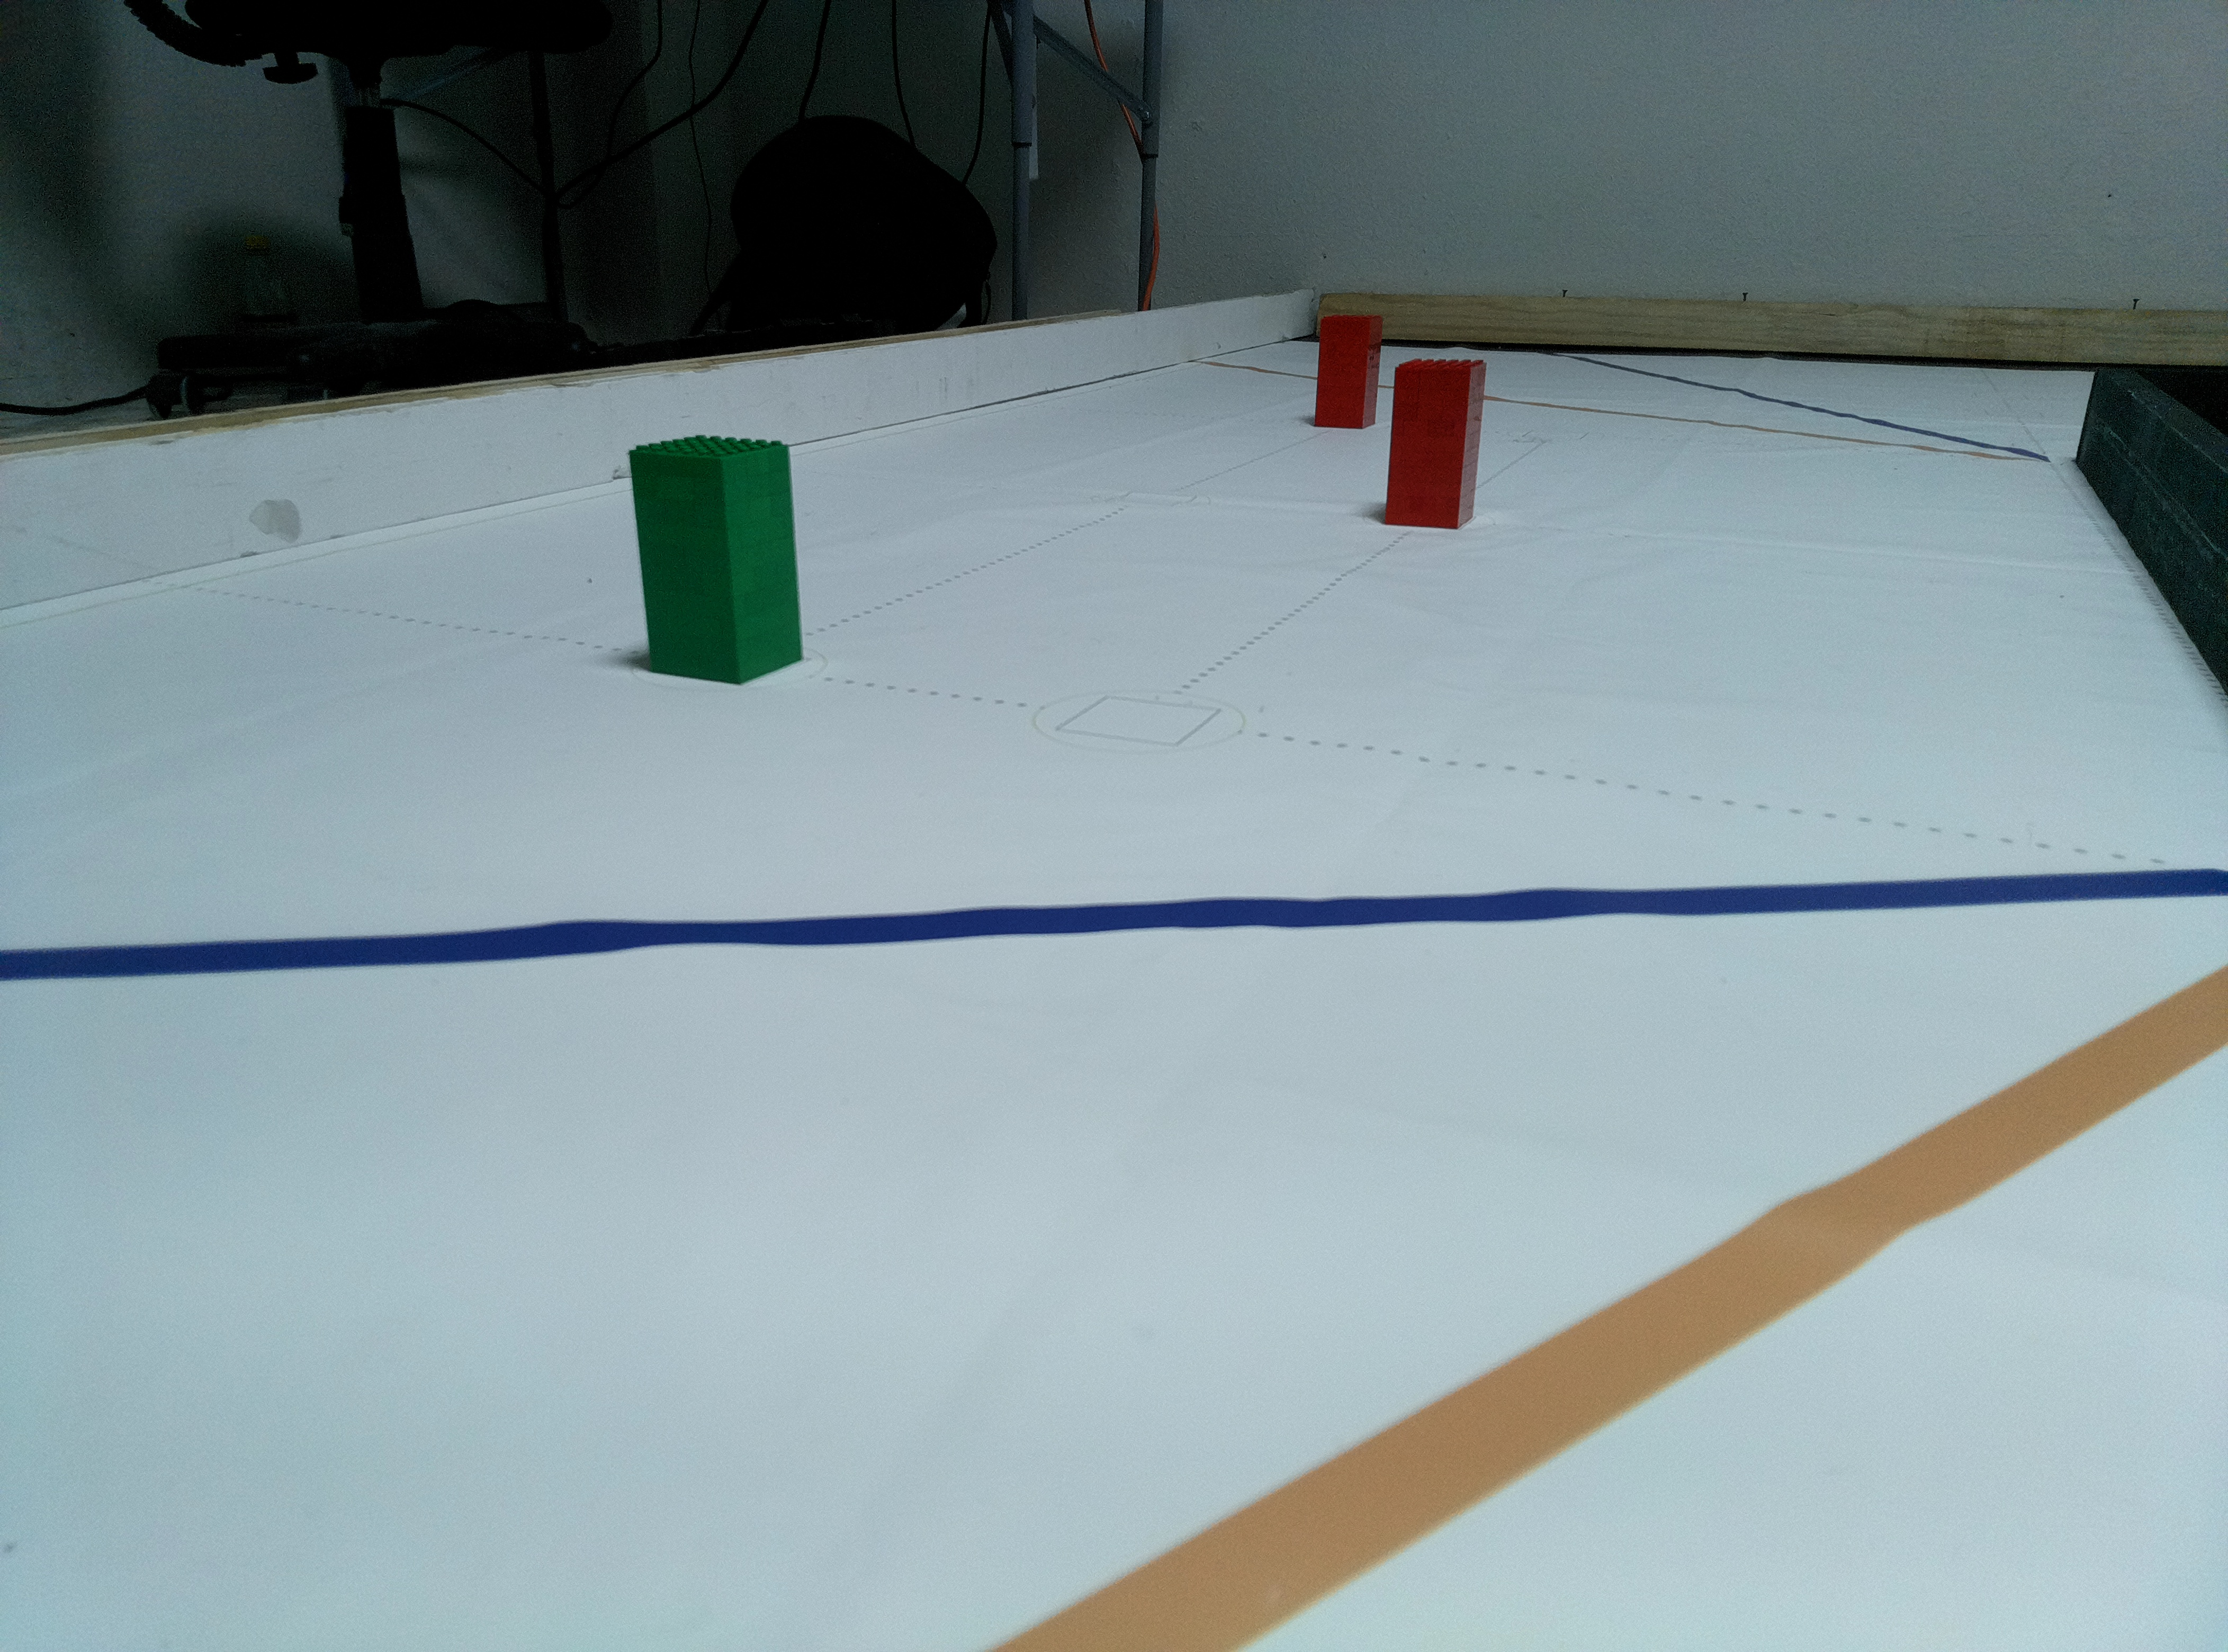greenbox: (626, 430, 805, 687)
redbox: (1379, 359, 1489, 529), (1314, 311, 1385, 429)
